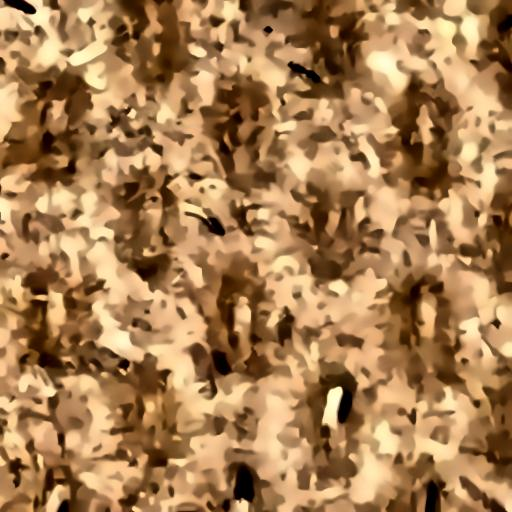egg: (320, 374, 370, 442), (178, 200, 248, 244), (276, 46, 336, 94), (226, 456, 266, 512), (1, 0, 60, 35), (205, 339, 244, 389), (38, 488, 88, 512), (417, 473, 447, 512)
